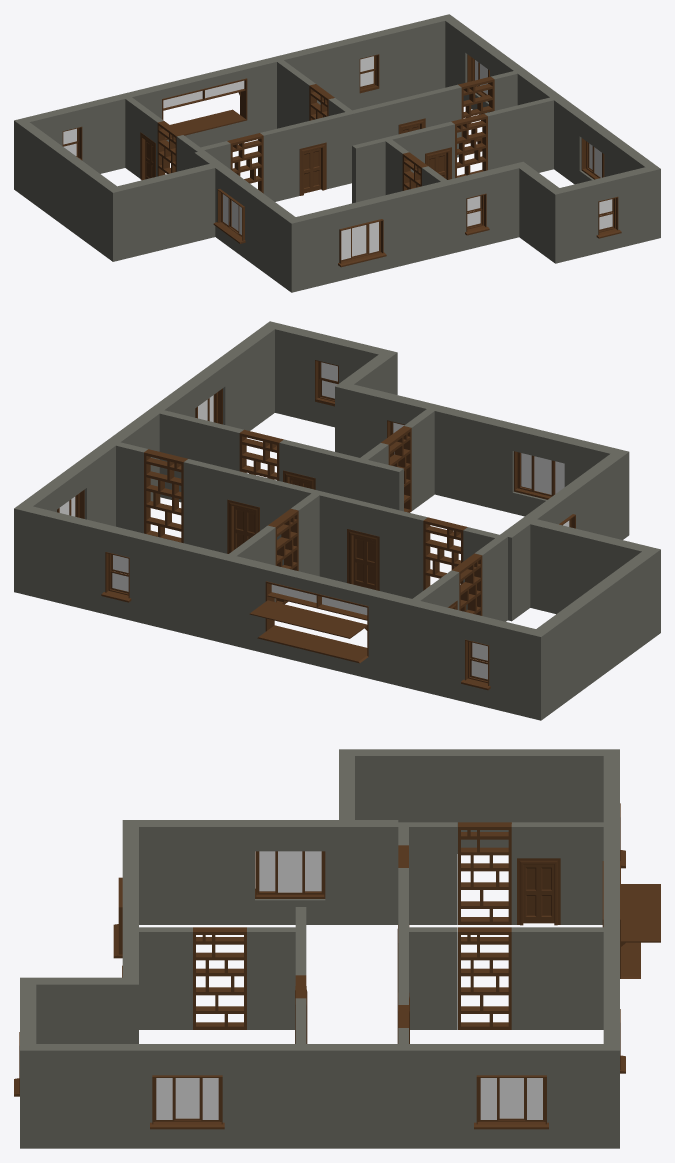
Rendered from Layout joined.fbx.
3 views of the same model, one above another, from view 1: azimuth 30°, elevation 25°; view 2: azimuth 150°, elevation 25°; view 3: azimuth 270°, elevation 25° (orthographic). The views are drawn at different scales.
Visible parts, largest first — view 1: Cube.237; view 2: Cube.237; view 3: Cube.237.
Boxes of the visible parts, left/top/right/bottom form: Cube.237: left=14, top=14, right=660, bottom=292; Cube.237: left=14, top=321, right=660, bottom=720; Cube.237: left=14, top=749, right=660, bottom=1148.
Bounding box in the file's own units: 2674 × 400 × 2395.
